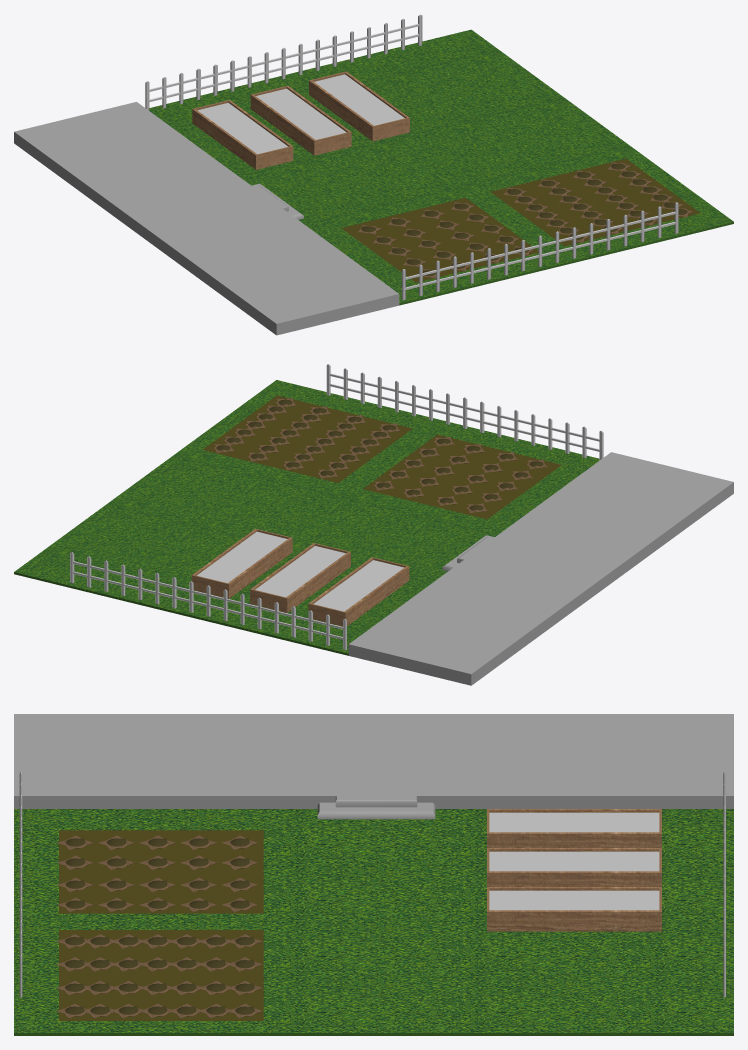
The model's file is Garden layout.fbx.
3 views of the same model, one above another, from view 1: azimuth 30°, elevation 25°; view 2: azimuth 150°, elevation 25°; view 3: azimuth 270°, elevation 25° (orthographic). The views are drawn at different scales.
Parts seen in each view (by area): view 1: pCube25, pCube21, pPlane22, pPlane12, polySurface394, polySurface449, polySurface450, pCube77 (×2), pCube78 (×2); view 2: pCube25, pCube21, pPlane12, pPlane22, polySurface450, polySurface449, polySurface394, pCube77 (×2), pCube78 (×2); view 3: pCube25, pCube21, pPlane12, pPlane22, polySurface450, polySurface394, polySurface449, pCube24, pCube23.
Boxes of the visible parts, bbox=[...] form: pCube25: bbox=[149, 29, 733, 305]; pCube21: bbox=[14, 102, 399, 335]; pPlane22: bbox=[490, 158, 700, 246]; pPlane12: bbox=[341, 197, 538, 282]; polySurface394: bbox=[192, 100, 293, 169]; polySurface449: bbox=[250, 85, 351, 155]; polySurface450: bbox=[309, 71, 409, 141]; pCube77 (×2): bbox=[148, 34, 675, 289]; pCube78 (×2): bbox=[148, 24, 675, 279]; pCube25: bbox=[14, 380, 599, 655]; pCube21: bbox=[348, 452, 733, 685]; pPlane12: bbox=[363, 434, 561, 519]; pPlane22: bbox=[203, 395, 412, 482]; polySurface450: bbox=[191, 528, 292, 598]; polySurface449: bbox=[250, 543, 350, 612]; polySurface394: bbox=[308, 557, 409, 626]; pCube77 (×2): bbox=[73, 384, 599, 639]; pCube78 (×2): bbox=[73, 373, 599, 629]; pCube25: bbox=[14, 809, 733, 1035]; pCube21: bbox=[14, 714, 733, 808]; pPlane12: bbox=[59, 830, 263, 913]; pPlane22: bbox=[59, 930, 263, 1020]; polySurface450: bbox=[487, 887, 661, 931]; polySurface394: bbox=[487, 809, 661, 847]; polySurface449: bbox=[487, 848, 661, 886]; pCube24: bbox=[317, 802, 435, 819]; pCube23: bbox=[335, 796, 417, 807].
Bounding box in the file's own units: 2136 × 147 × 2123.
